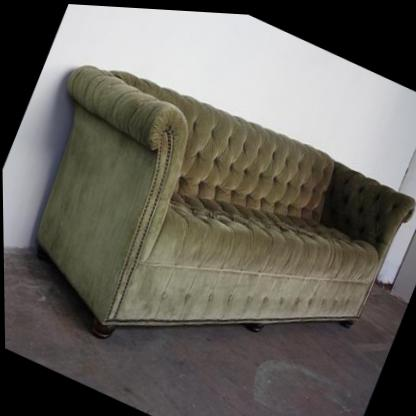Sofa: (0, 31, 416, 416)
